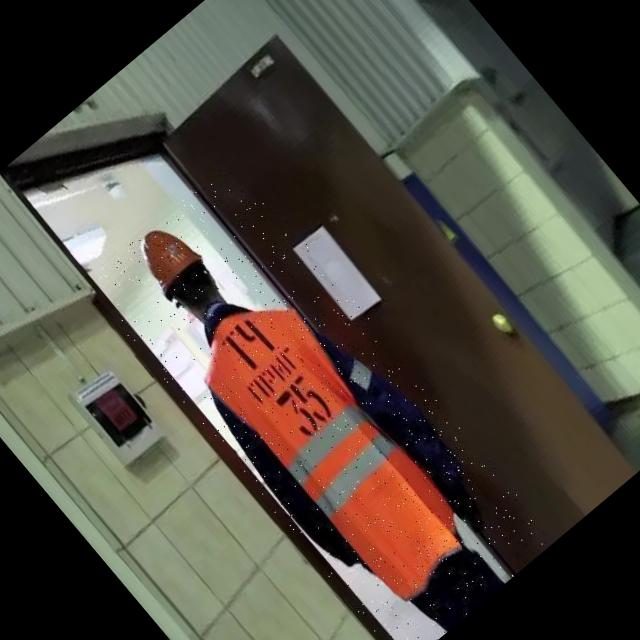hard_hat: (125, 214, 208, 298)
safety_vest: (180, 276, 488, 611)
vehicle: (81, 155, 555, 640)
